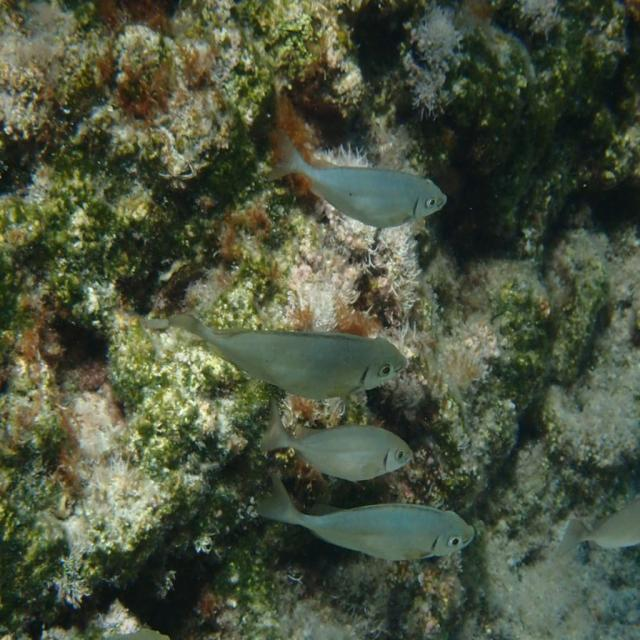Sokar Baligi: (150, 293, 412, 410), (252, 466, 486, 575), (264, 118, 452, 242), (245, 390, 418, 490)
